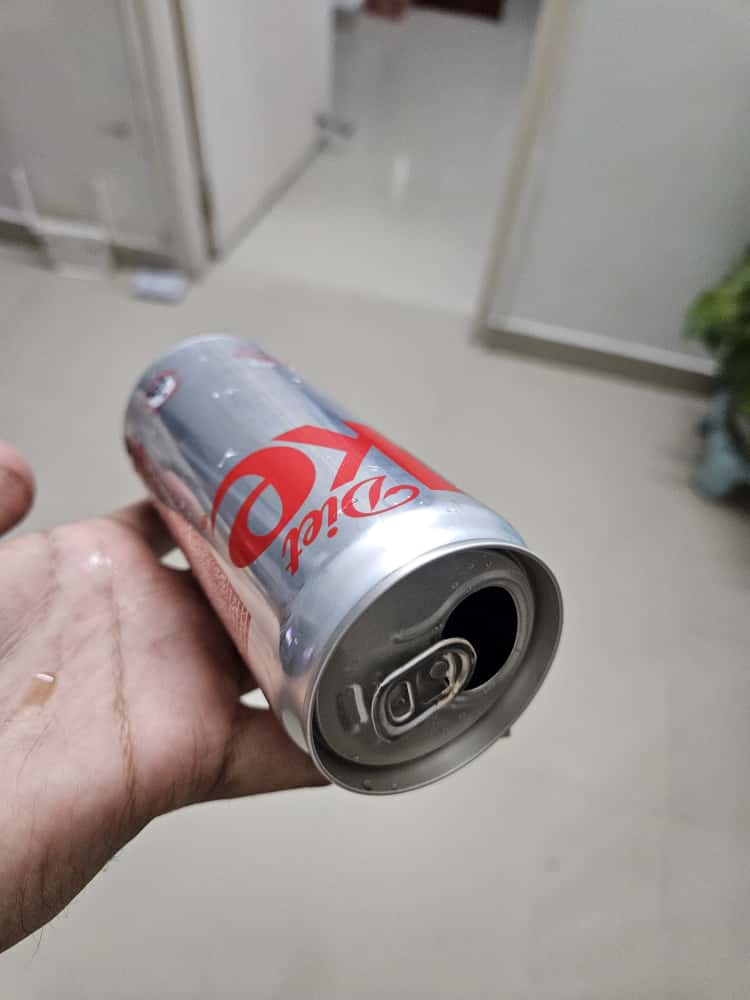dry: (105, 299, 600, 794)
